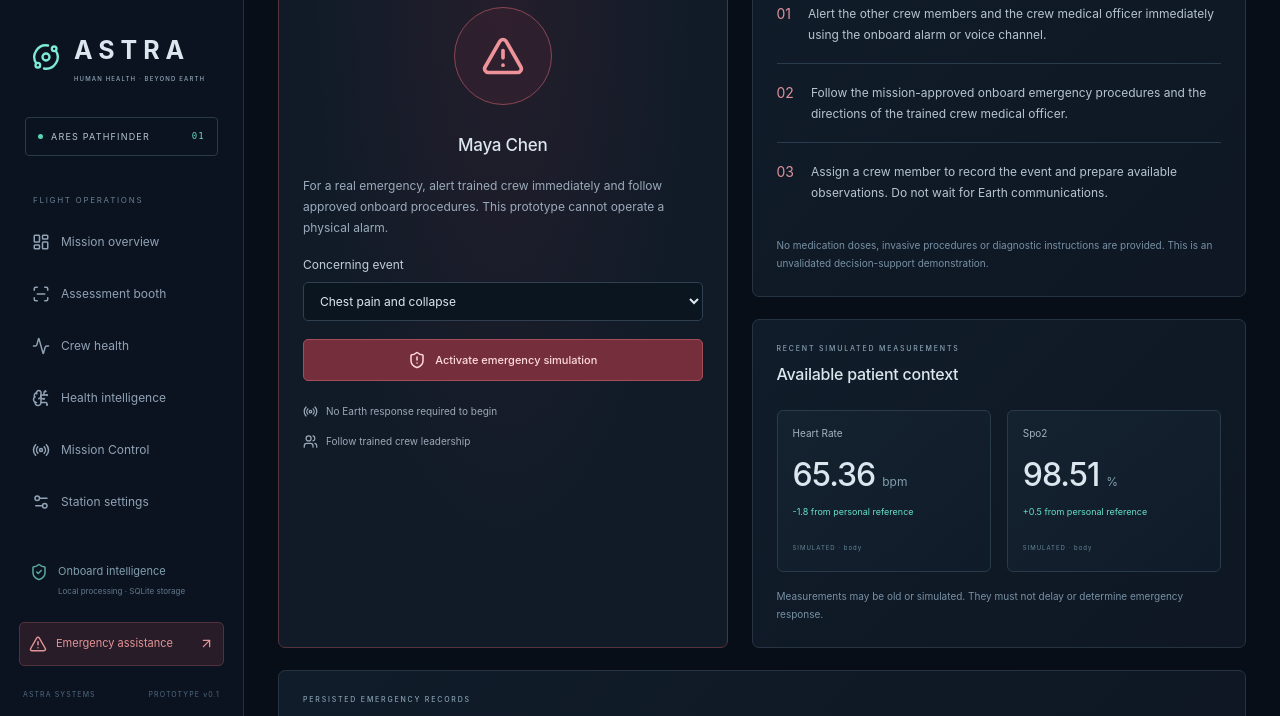
Test: activates an emergency without starting a check-in
(page scrolled)
Step 1. Click the button "Activate emergency simulation" → click(503, 360), box [303,339,702,381]
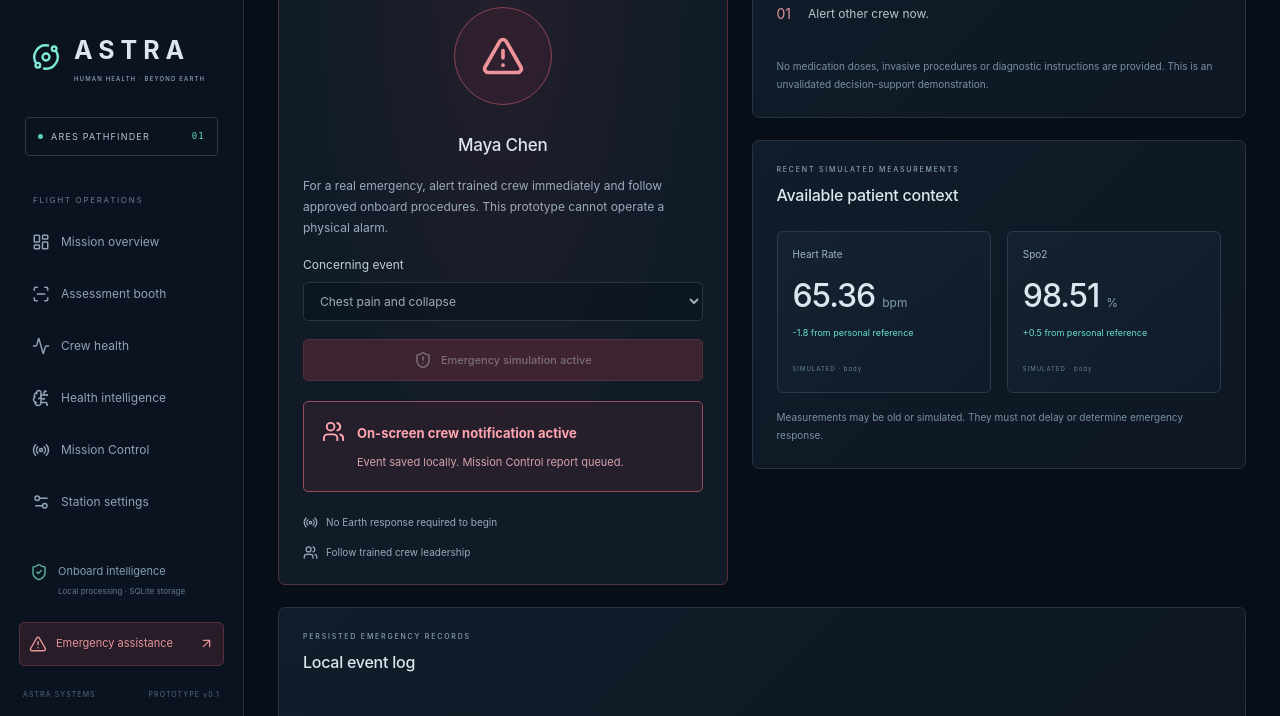
Check: the text "Event saved locally. Mission Control report queued." is shown, box [357,453,624,473]
